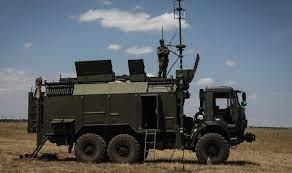person: (155, 37, 171, 79)
truck: (26, 1, 261, 171)
